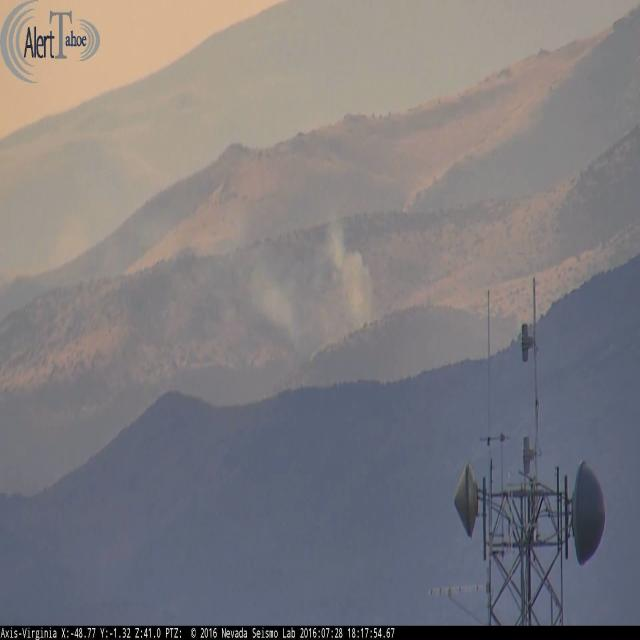smoke: (252, 224, 381, 351)
